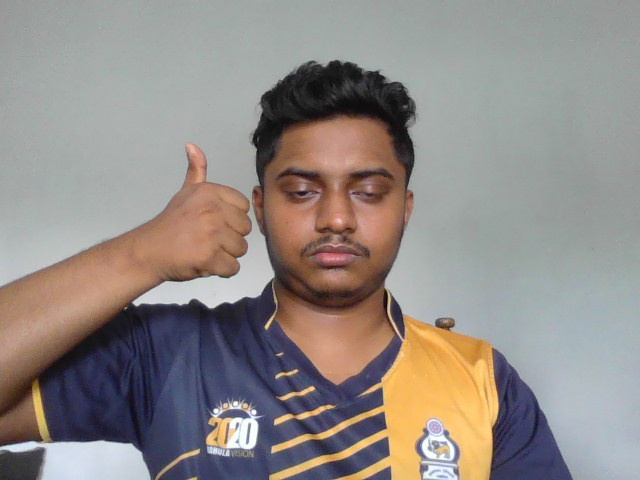Agree: (150, 138, 252, 281)
